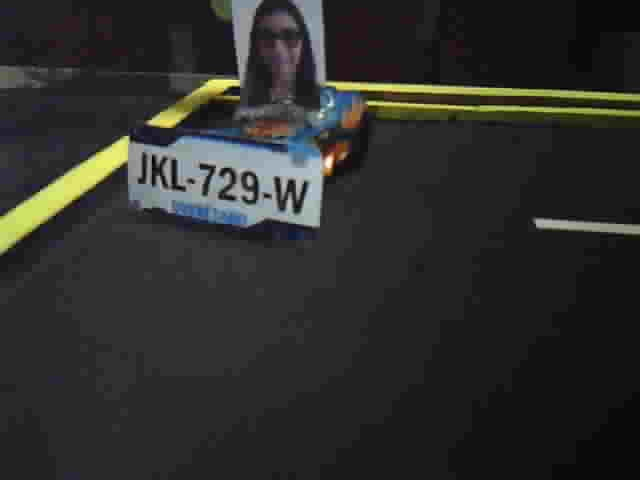PLACA: (124, 120, 325, 249)
ROSTRO: (242, 2, 325, 110)
